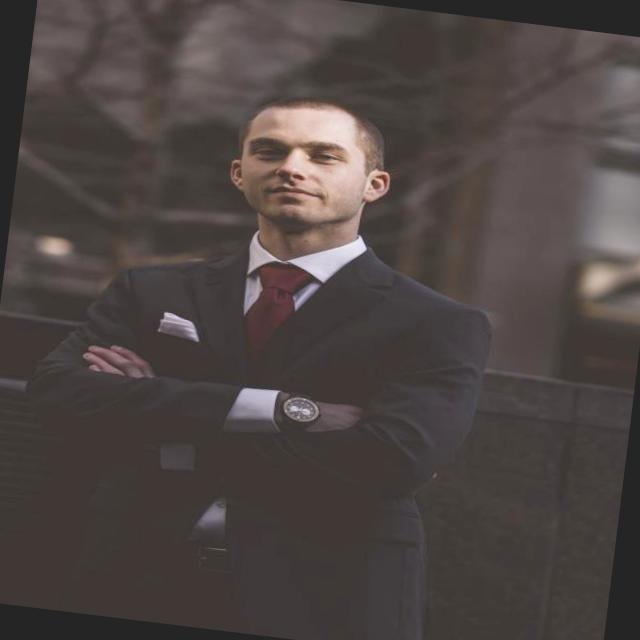person: (0, 66, 519, 640)
